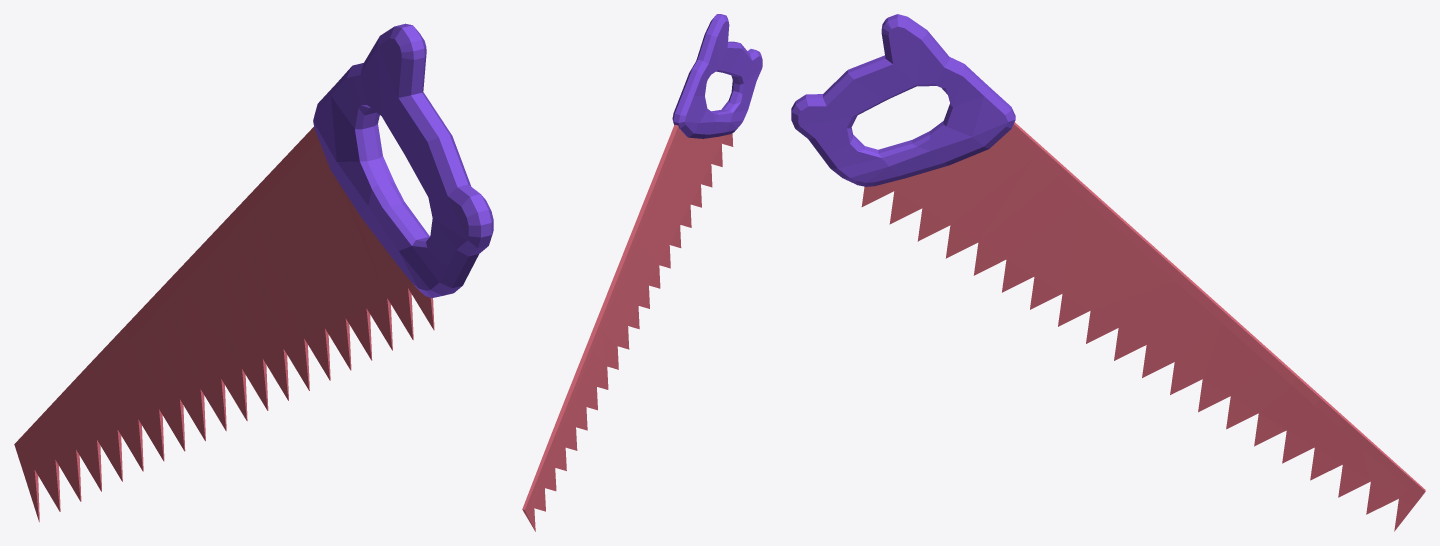
File: longSaw.fbx
3 renders of one model, left to right at view 1: azimuth 30°, elevation 25°; view 2: azimuth 150°, elevation 25°; view 3: azimuth 270°, elevation 25°, orthographic. The views are drawn at different scales.
Visible parts, largest first — view 1: sawBlade, sawHandle; view 2: sawBlade, sawHandle; view 3: sawBlade, sawHandle.
Part boxes in pixels (x1=…): sawBlade: x1=14, y1=127, x2=434, y2=522; sawHandle: x1=313, y1=23, x2=493, y2=297; sawBlade: x1=522, y1=124, x2=733, y2=531; sawHandle: x1=672, y1=14, x2=762, y2=138; sawBlade: x1=861, y1=122, x2=1425, y2=531; sawHandle: x1=791, y1=14, x2=1015, y2=186.
Bounding box in the file's own units: 8.48 × 203 × 226.
